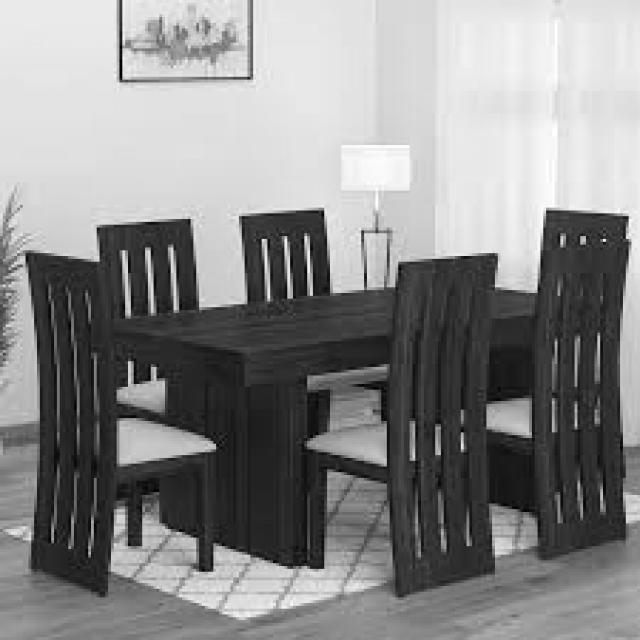chair: (22, 247, 222, 597), (298, 252, 498, 598), (505, 200, 631, 556), (94, 212, 246, 422), (228, 192, 380, 388)
